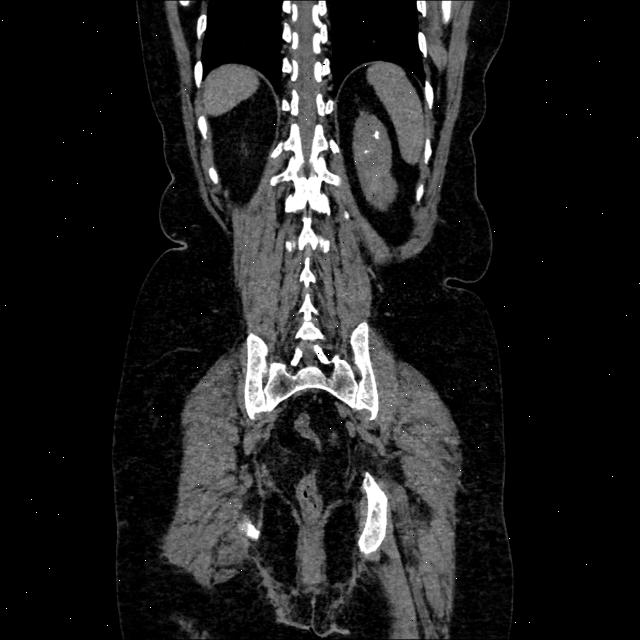kidneystone: (374, 131, 380, 139), (364, 150, 368, 154)
